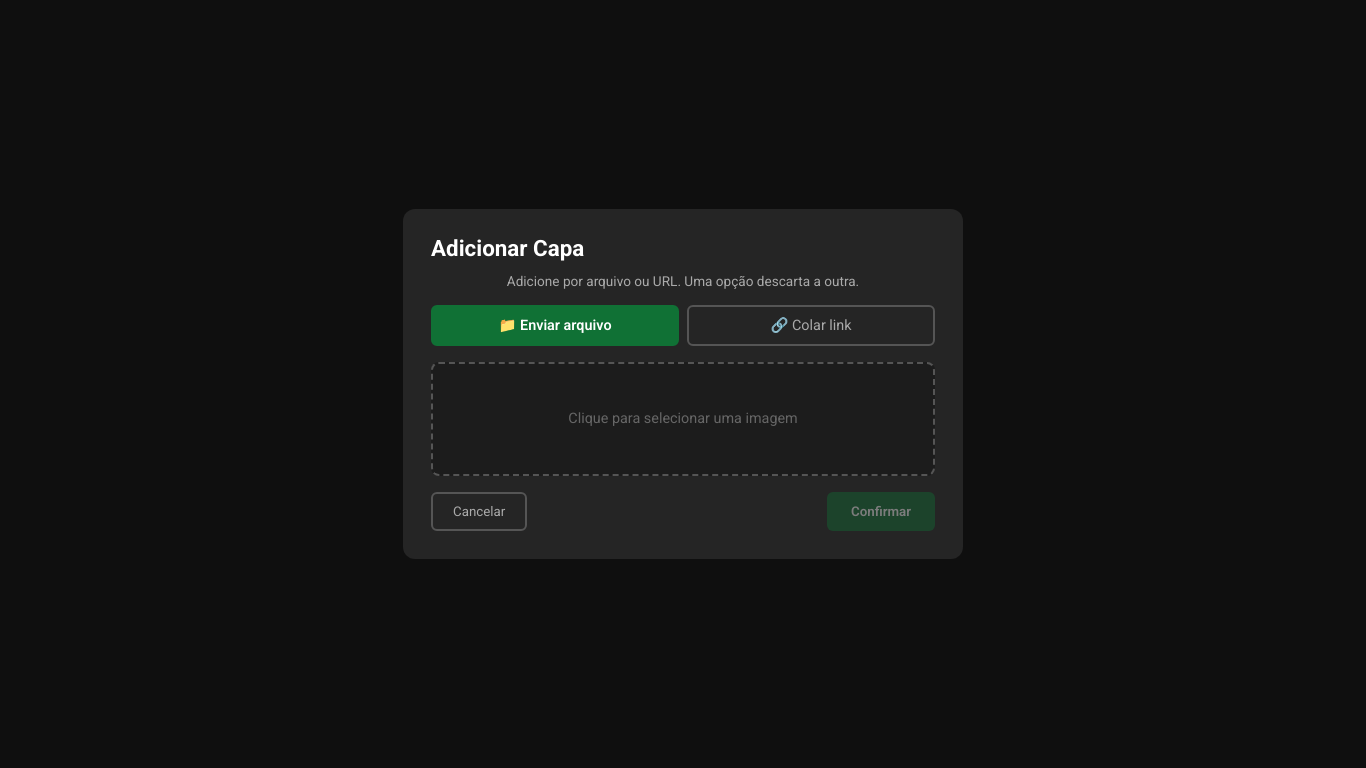
ImagePickerModal — guarda de descarte › clique-fora abre confirmação de descarte quando já há uma URL preenchida
Click the button "🔗 Colar link" at (811, 325), box [687,305,935,346]
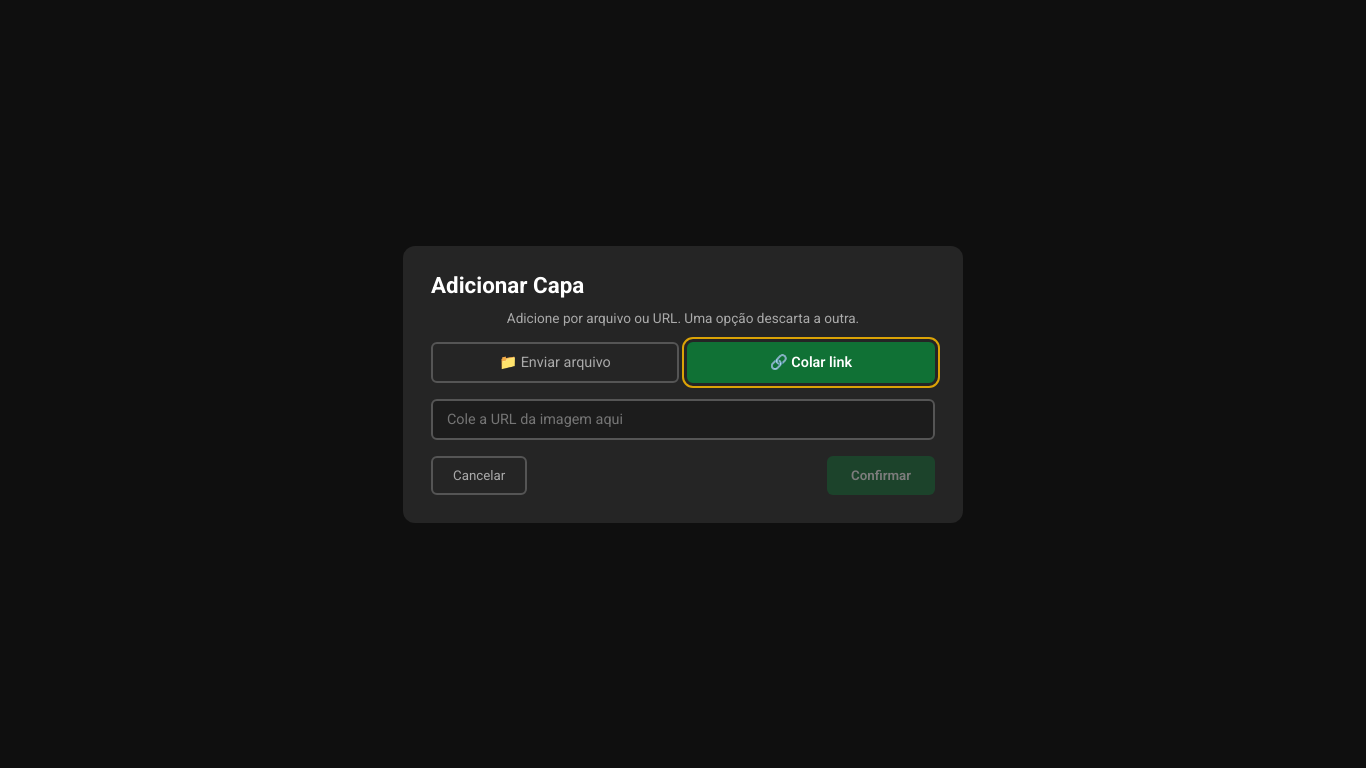
Type "https://example.com/img.png" into the field with placeholder "Cole a URL da imagem aqui" at (683, 419), box [431,398,935,440]
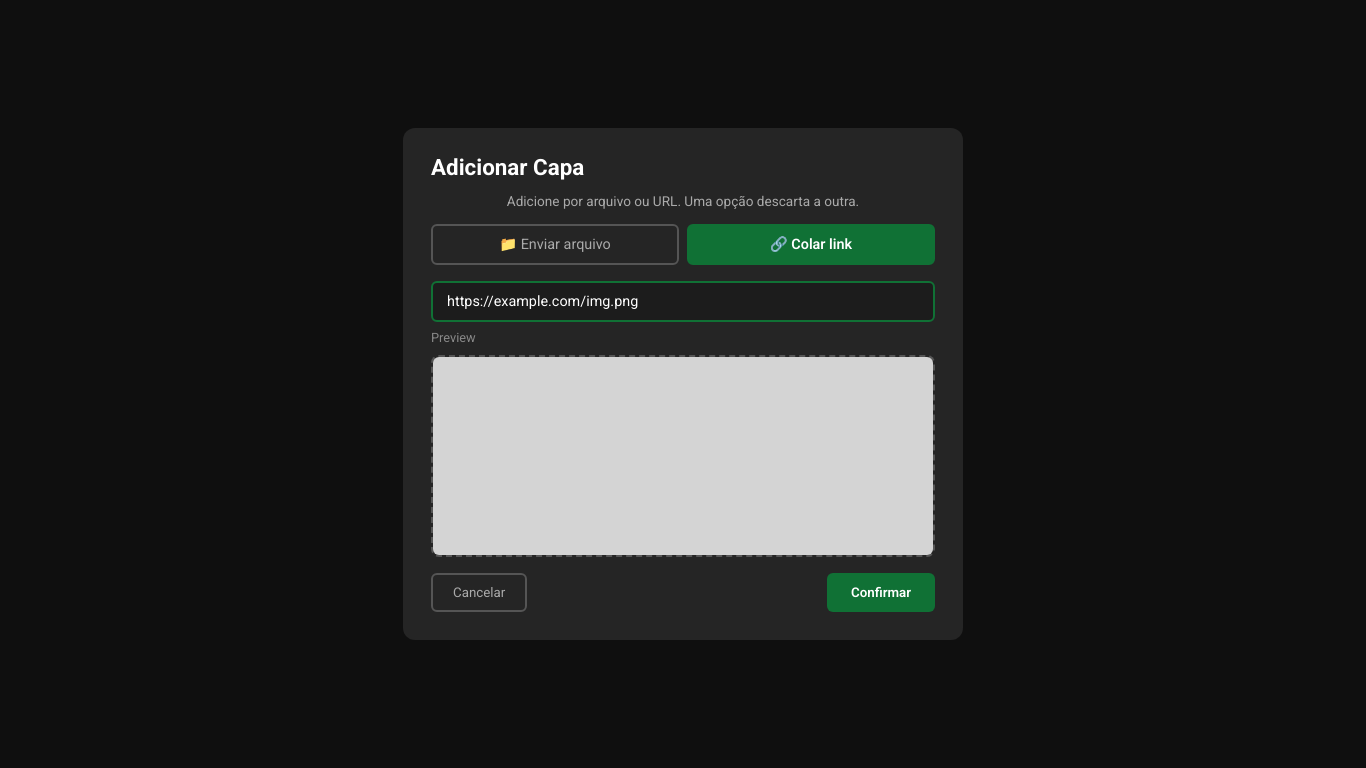
Press the mouse on the element with test id "image-picker-overlay" at (683, 384), box [0,0,1365,767]
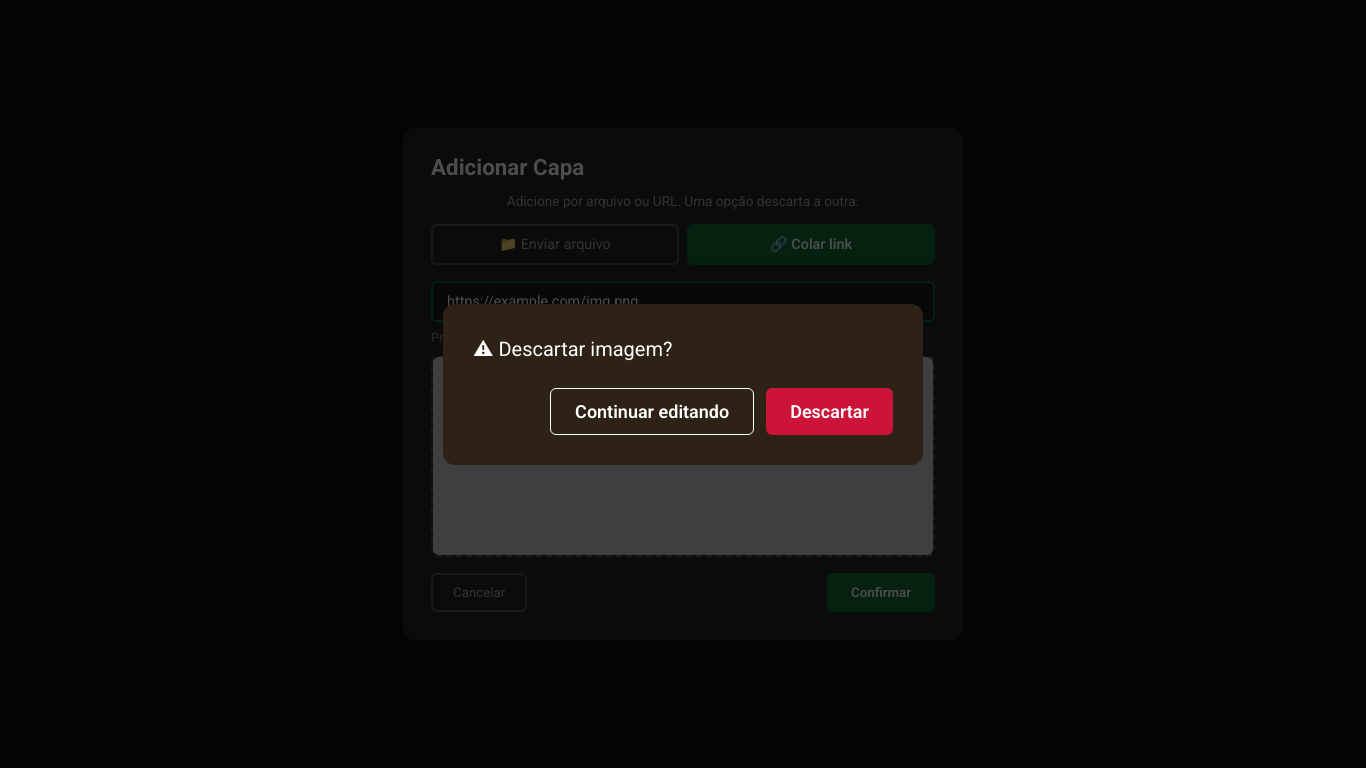
expect the text "⚠ Descartar imagem?" is shown: met, box [473,336,672,360]
